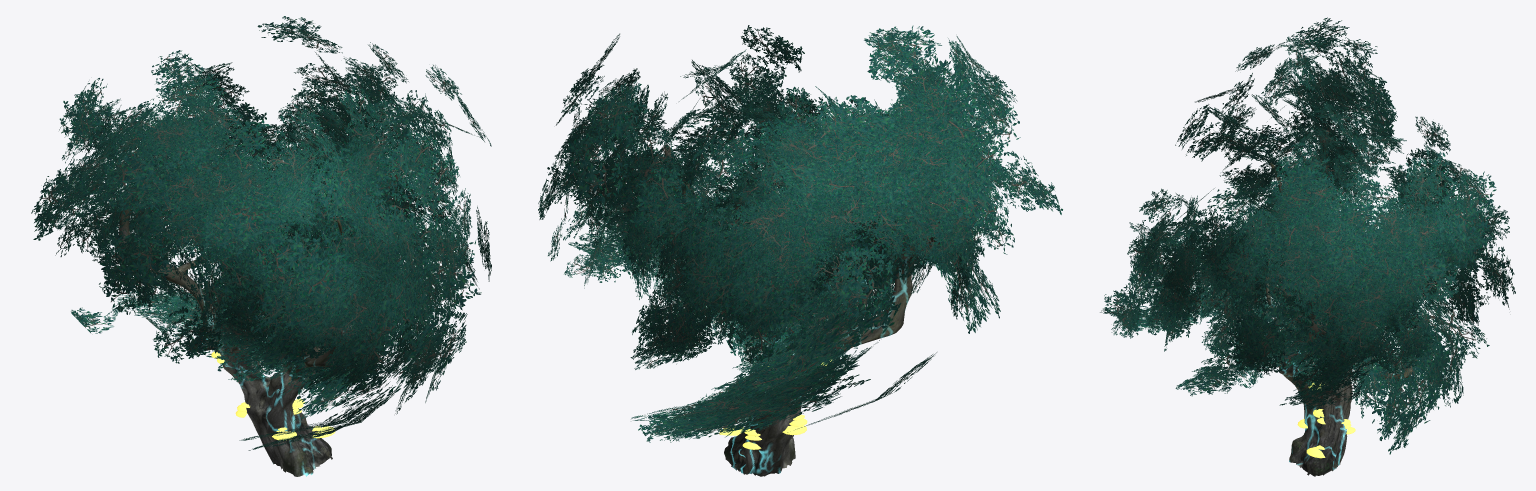
The model's file is Arvore_A.fbx.
The picture shows the model from 3 angles, left to right: view 1: azimuth 30°, elevation 25°; view 2: azimuth 150°, elevation 25°; view 3: azimuth 270°, elevation 25°; orthographic projection. The views are drawn at different scales.
Parts seen in each view (by area): view 1: Arvore_A_LOD0; view 2: Arvore_A_LOD0; view 3: Arvore_A_LOD0.
Boxes of the visible parts, bbox=[...] form: Arvore_A_LOD0: bbox=[31, 16, 491, 476]; Arvore_A_LOD0: bbox=[538, 25, 1062, 476]; Arvore_A_LOD0: bbox=[1100, 17, 1515, 476].
Size of what is drawn, in the model's own units: 12.17 by 10.86 by 11.19.
